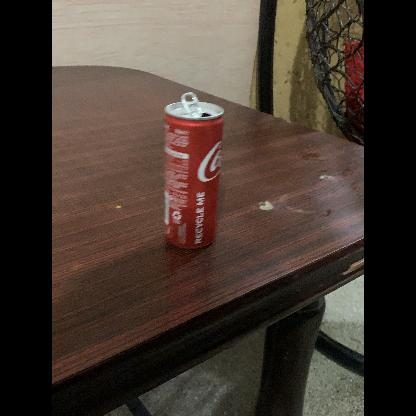Lid_Open: (178, 88, 212, 122)
Tin_Can: (158, 90, 226, 257)
